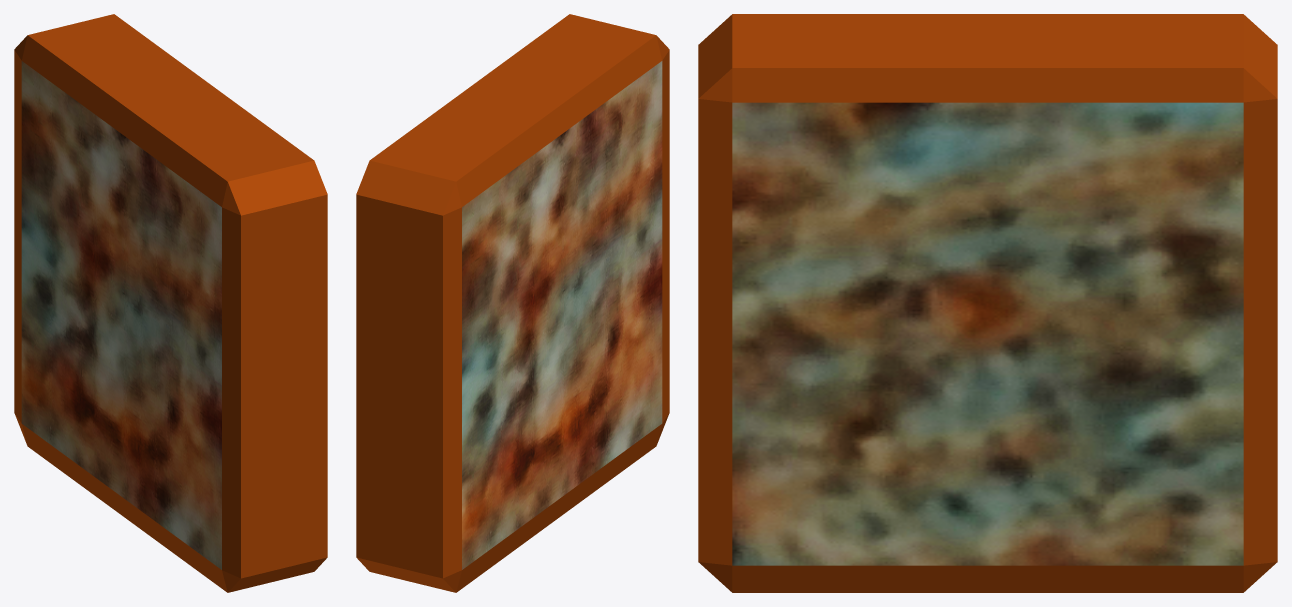
File: toast.fbx
The picture shows the model from 3 angles, left to right: view 1: azimuth 30°, elevation 25°; view 2: azimuth 150°, elevation 25°; view 3: azimuth 270°, elevation 25°; orthographic projection. The views are drawn at different scales.
Parts seen in each view (by area): view 1: Toast; view 2: Toast; view 3: Toast.
Boxes of the visible parts, left/top/right/bottom form: Toast: left=14, top=14, right=327, bottom=592; Toast: left=356, top=14, right=669, bottom=592; Toast: left=698, top=14, right=1277, bottom=592.
Size of the model in its own units: 50 by 200 by 200.
